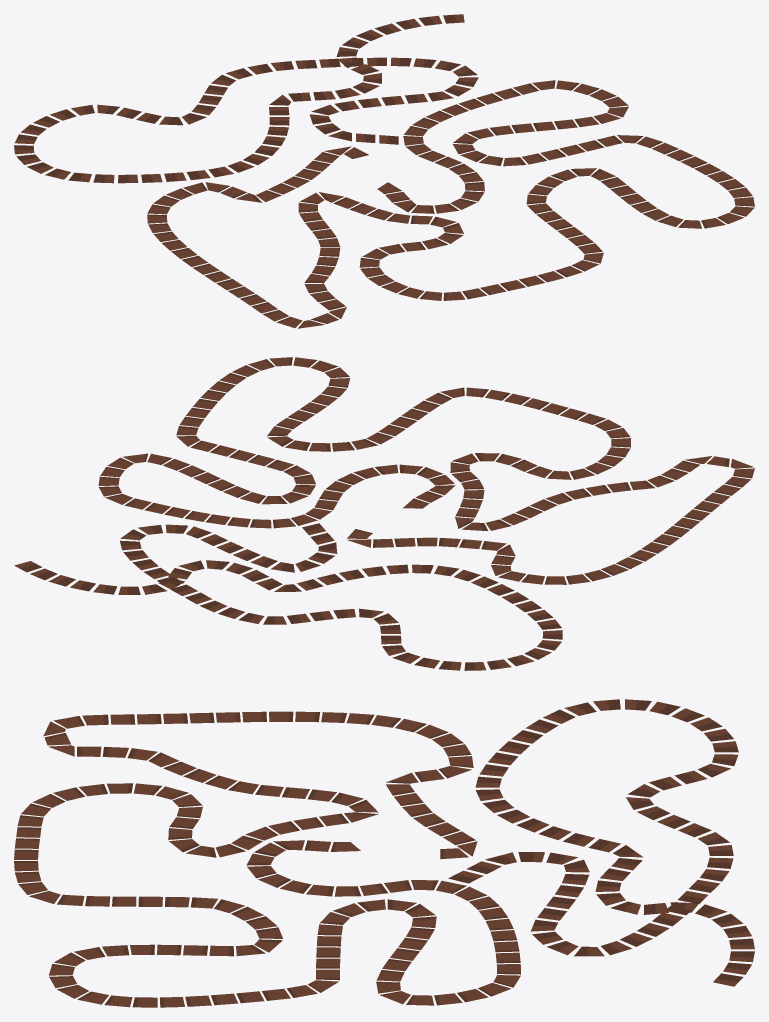
The model's file is camino.glb.
The picture shows the model from 3 angles, top to bottom: view 1: azimuth 30°, elevation 25°; view 2: azimuth 150°, elevation 25°; view 3: azimuth 270°, elevation 25°; orthographic projection. The views are drawn at different scales.
Visible parts, largest first — view 1: camino, Camino2; view 2: camino, Camino2; view 3: camino, Camino2.
Part boxes in pixels (x1=…): camino: x1=147, y1=80, x2=754, y2=328; Camino2: x1=14, y1=14, x2=478, y2=183; camino: x1=98, y1=357, x2=754, y2=584; Camino2: x1=14, y1=523, x2=562, y2=670; camino: x1=14, y1=711, x2=520, y2=1007; Camino2: x1=448, y1=699, x2=754, y2=986.
Size of what is drawn, in the model's own units: 60.79 by 2.42e-05 by 61.73.
1 material, 1 textured.
